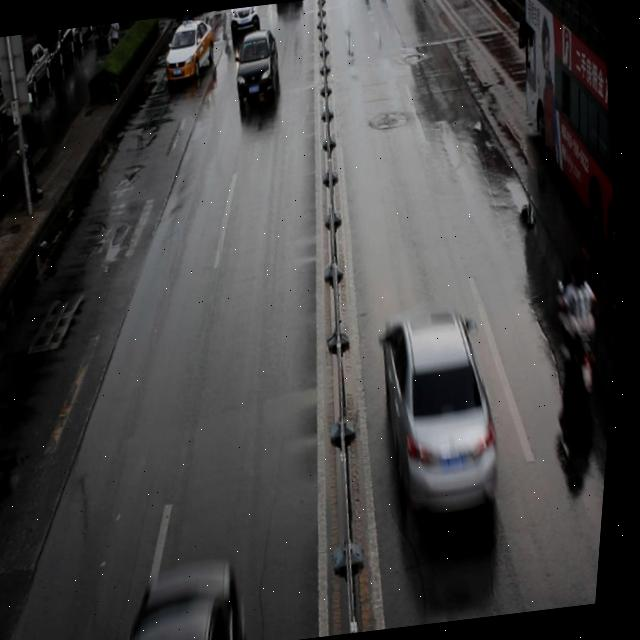car: (368, 299, 519, 520), (123, 550, 261, 640), (159, 14, 221, 82), (230, 27, 285, 102), (227, 5, 263, 36), (275, 0, 300, 7)
van: (499, 0, 635, 279)
